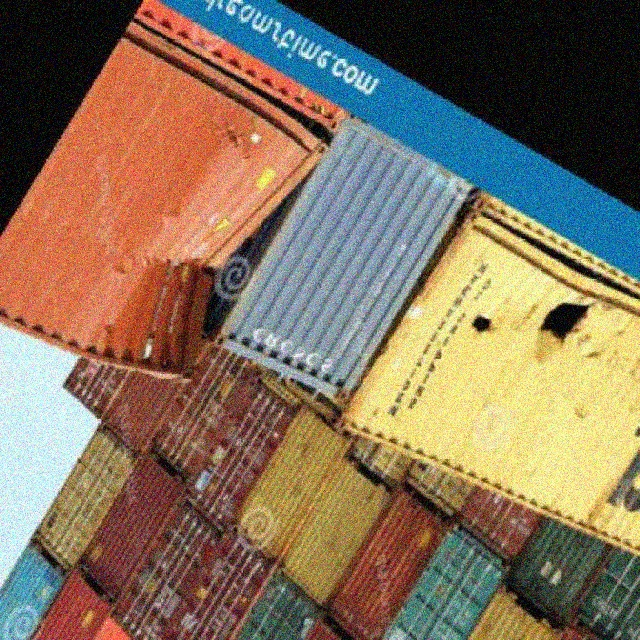Hole: (470, 290, 587, 366)
